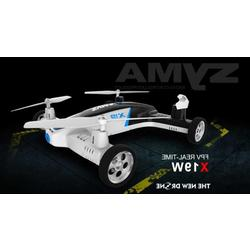drone: (8, 88, 212, 186)
